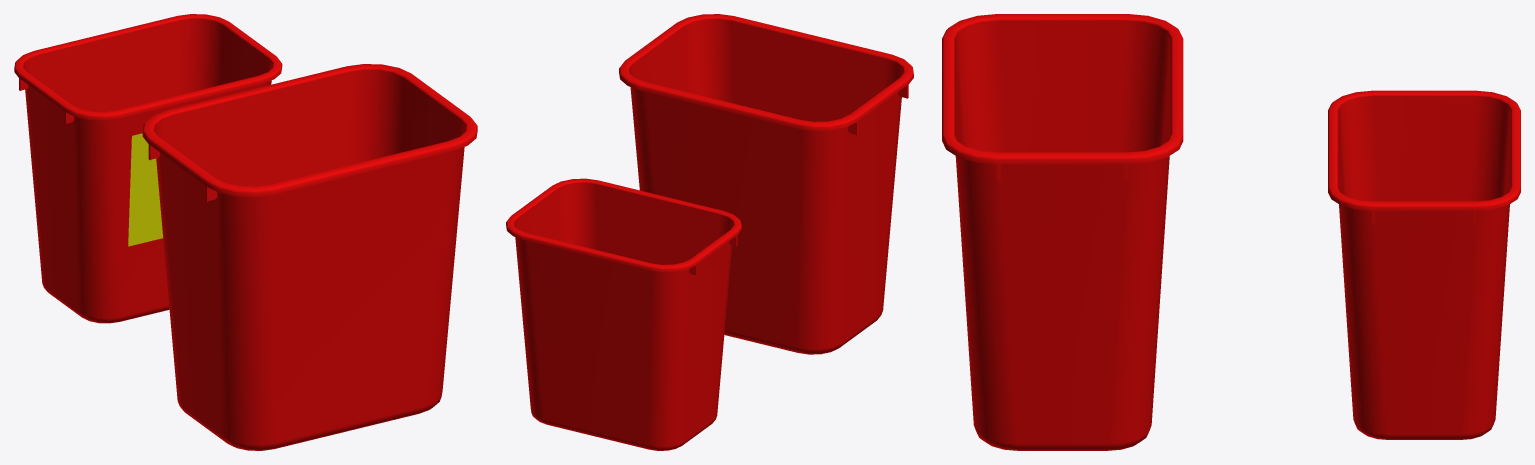
The model's file is thorkea_garbage_bins_grp.fbx.
The picture shows the model from 3 angles, left to right: view 1: azimuth 30°, elevation 25°; view 2: azimuth 150°, elevation 25°; view 3: azimuth 270°, elevation 25°; orthographic projection. The views are drawn at different scales.
Parts seen in each view (by area): view 1: thorkea_garbage_bin_ai2_1, thorkea_garbage_bin_ai2_2; view 2: thorkea_garbage_bin_ai2_1, thorkea_garbage_bin_ai2_2; view 3: thorkea_garbage_bin_ai2_1, thorkea_garbage_bin_ai2_2.
Part boxes in pixels (x1,y1,x2,y2): thorkea_garbage_bin_ai2_1: (142,64,477,450); thorkea_garbage_bin_ai2_2: (14,14,282,323); thorkea_garbage_bin_ai2_1: (619,14,913,354); thorkea_garbage_bin_ai2_2: (506,178,741,450); thorkea_garbage_bin_ai2_1: (942,14,1183,450); thorkea_garbage_bin_ai2_2: (1328,90,1520,439).
Bounding box in the file's own units: 37.75 × 38.08 × 64.02.
